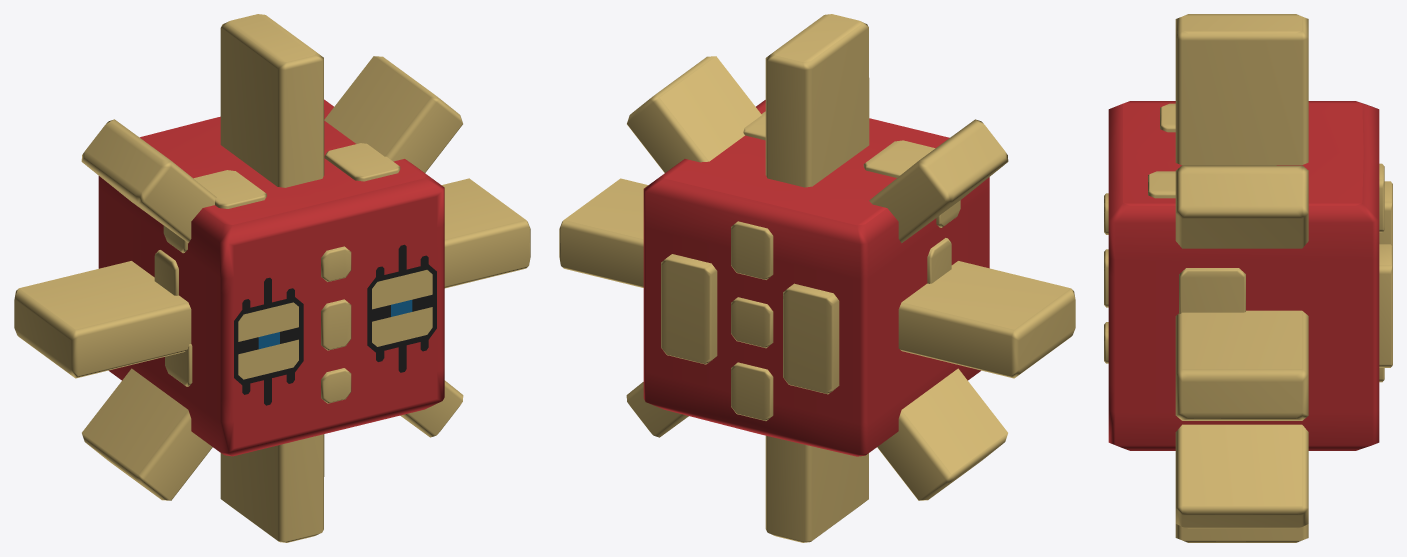
3 views of the same model, side by side, from view 1: azimuth 30°, elevation 25°; view 2: azimuth 150°, elevation 25°; view 3: azimuth 270°, elevation 25° (orthographic). The views are drawn at different scales.
Visible parts, largest first — view 1: model; view 2: model; view 3: model.
Part boxes in pixels (<box>): model: <box>14,14,530,542</box>; model: <box>559,14,1075,542</box>; model: <box>1104,14,1392,542</box>.
Bounding box in the file's own units: 2.4 × 2.4 × 1.23.
